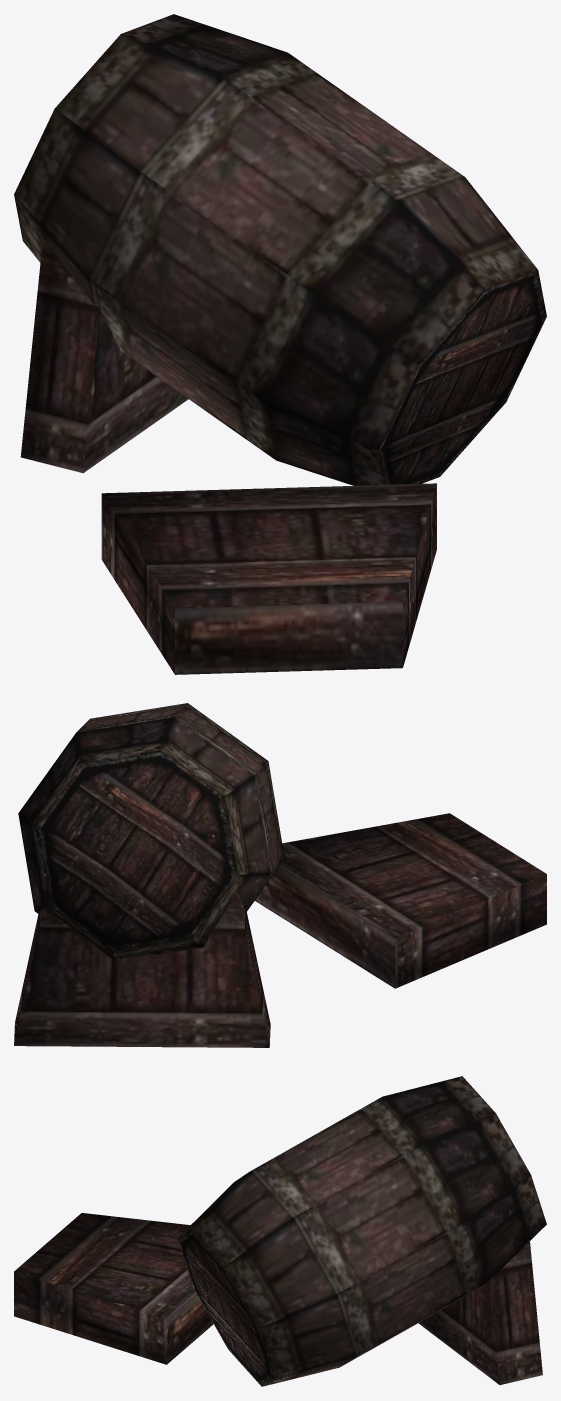
The model's file is OC_BARREL_V2_DESTROYED.glb.
The picture shows the model from 3 angles, top to bottom: view 1: azimuth 30°, elevation 25°; view 2: azimuth 150°, elevation 25°; view 3: azimuth 270°, elevation 25°; orthographic projection. The views are drawn at different scales.
Visible parts, largest first — view 1: Mesh; view 2: Mesh; view 3: Mesh.
Boxes of the visible parts, left/top/right/bottom form: Mesh: left=14, top=14, right=546, bottom=674; Mesh: left=14, top=703, right=546, bottom=1047; Mesh: left=14, top=1076, right=546, bottom=1386.
Size of the model in its own units: 1.36 by 0.9808 by 1.85.
Materials: 1 (1 with a texture image).
